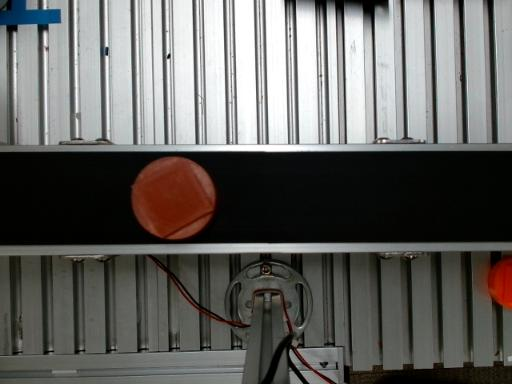Brown_Waper: (131, 157, 216, 239)
Square: (132, 158, 216, 240)
